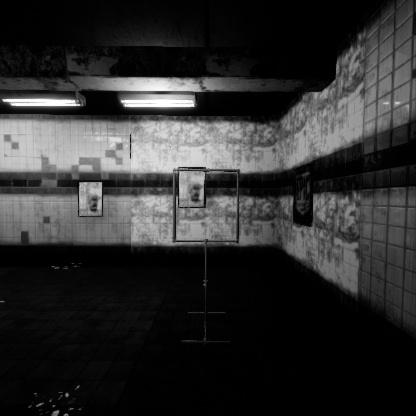gate: (173, 172, 246, 247)
